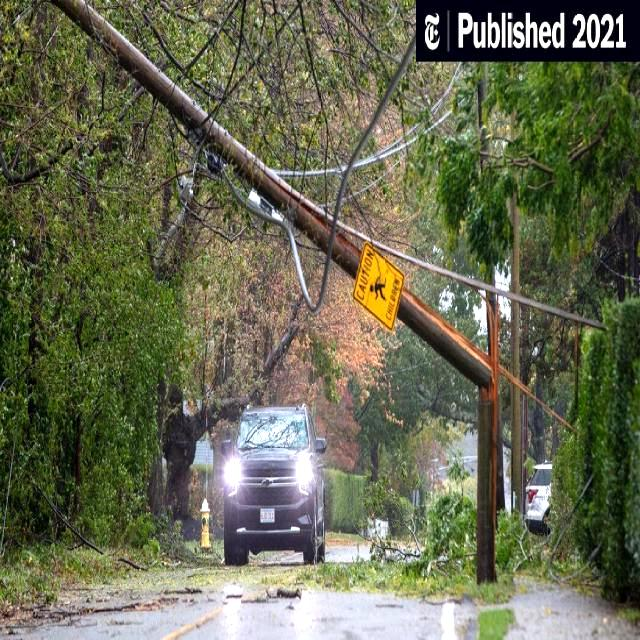Broken Pole: (49, 3, 493, 588)
